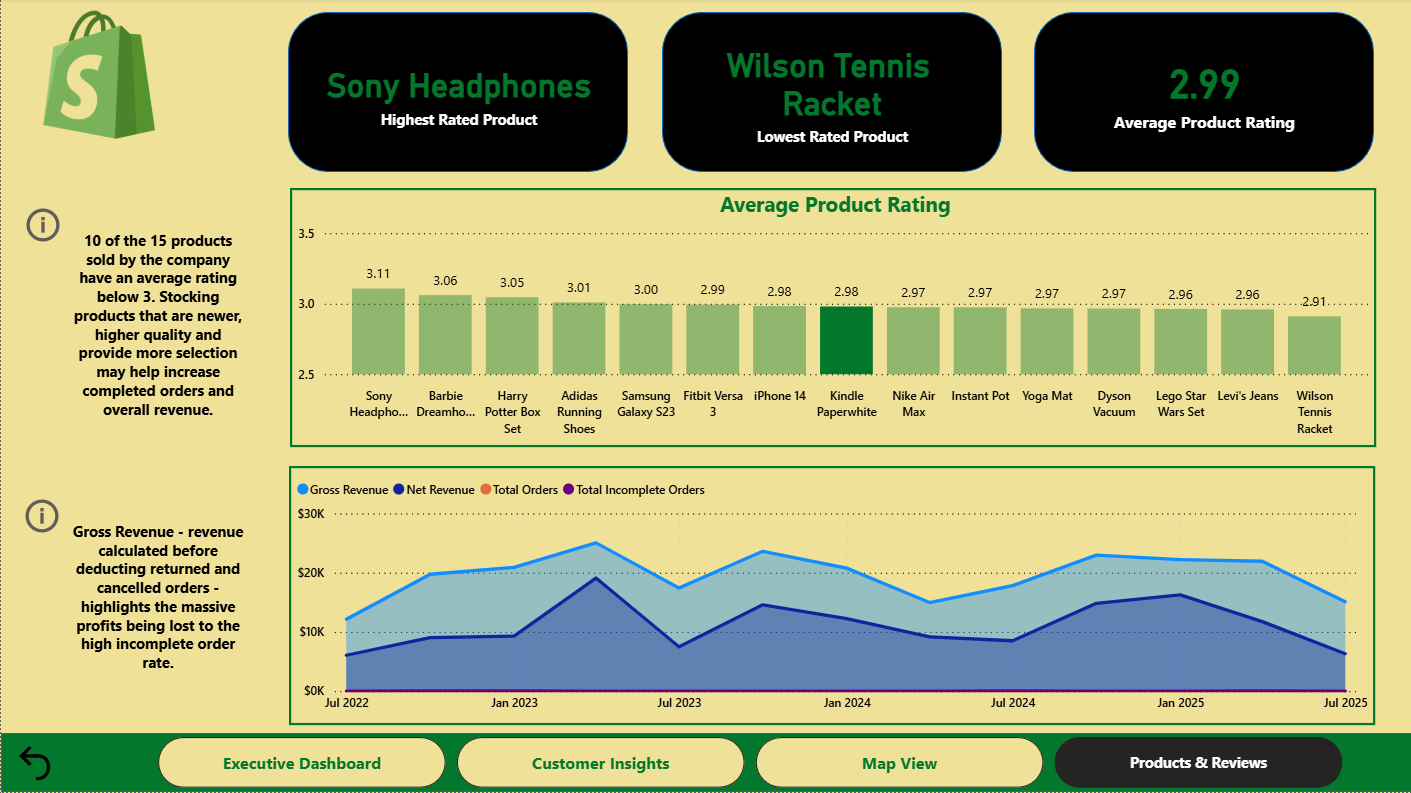

The page's visual inventory and layout, read from the dashboard file:
{"tool":"powerbi","page":{"name":"Products & Reviews","canvas":[1280,720],"ordinal":3},"visuals":[{"type":"shape","box":[936.7,12.7,308.3,145.1],"z":0},{"type":"shape","box":[599.4,12.7,308.3,145.1],"z":1000},{"type":"shape","box":[260.3,12.7,308.3,145.1],"z":2000},{"type":"card","fields":{"Values":["Min(Products_Table.PRODUCT NAME)"]},"box":[276.6,26.3,277.5,118.8],"z":5000},{"type":"card","fields":{"Values":["Measures Table.Average Product Rating"]},"box":[952.1,23.6,278.4,121.5],"z":6000},{"type":"card","fields":{"Values":["Min(Products_Table.PRODUCT NAME)"]},"box":[614.8,23.6,278.4,121.5],"z":7000},{"type":"columnChart","title":"Average Product Rating","fields":{"Category":["Products_Table.PRODUCT NAME"],"Y":["Measures Table.Average Product Rating"]},"box":[262.1,172.3,984.8,234.9],"z":8000},{"type":"areaChart","fields":{"Y":["Measures Table.Gross Revenue","Measures Table.Net Revenue","Measures Table.Total Orders","Measures Table.Total Incomplete Orders"],"Category":["Calendar Lookup.Start of Month.Variation.Date Hierarchy.Year","Calendar Lookup.Start of Month.Variation.Date Hierarchy.Quarter"]},"box":[261.2,424.4,984.8,234.9],"z":9000},{"type":"actionButton","box":[17.2,449.8,40.8,39.9],"z":10000},{"type":"actionButton","box":[18.1,185.9,39.9,39.9],"z":11000},{"type":"textbox","box":[58,469.7,168.7,149.6],"z":12000},{"type":"textbox","box":[58,205.8,168.7,185],"z":13000},{"type":"image","box":[0,4.5,177.7,129.7],"z":13001},{"type":"shape","box":[0,666.5,1280.4,53.5],"z":13002},{"type":"actionButton","box":[10,672.8,47.2,41.7],"z":13003},{"type":"bookmarkNavigator","box":[142.4,670.1,1074.6,46.2],"z":13004}]}

Visuals, with their boxes in screenshot pixels (x1, y1, x2, y2), scaled from the page's 1280x720 canvas onto the 1411x793 screenshot:
shape: Rect(1033, 14, 1372, 174)
shape: Rect(661, 14, 1001, 174)
shape: Rect(287, 14, 627, 174)
card - Min(Products_Table.PRODUCT NAME): Rect(305, 29, 611, 160)
card - Measures Table.Average Product Rating: Rect(1050, 26, 1356, 160)
card - Min(Products_Table.PRODUCT NAME): Rect(678, 26, 985, 160)
"Average Product Rating" columnChart: Rect(289, 190, 1375, 448)
areaChart - Measures Table.Gross Revenue x Measures Table.Net Revenue: Rect(288, 467, 1374, 726)
actionButton: Rect(19, 495, 64, 539)
actionButton: Rect(20, 205, 64, 249)
textbox: Rect(64, 517, 250, 682)
textbox: Rect(64, 227, 250, 430)
image: Rect(0, 5, 196, 148)
shape: Rect(0, 734, 1410, 792)
actionButton: Rect(11, 741, 63, 787)
bookmarkNavigator: Rect(157, 738, 1342, 789)
